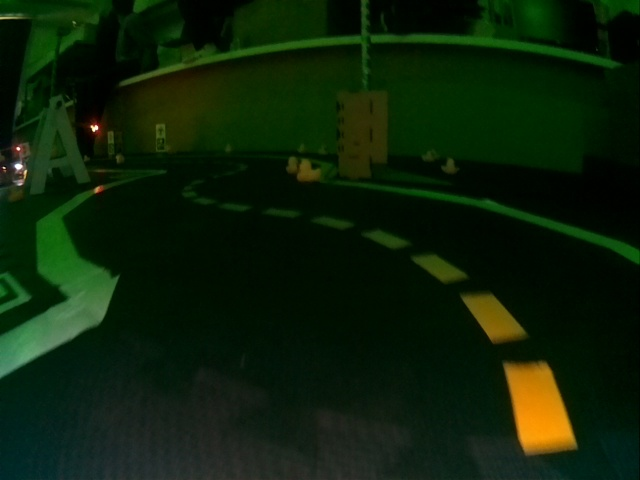Duckie: (298, 161, 320, 181), (442, 158, 456, 172), (286, 157, 298, 173), (422, 152, 432, 160), (297, 145, 306, 153), (225, 145, 234, 153)
Intersection sign: (156, 125, 165, 137)
QR code: (156, 139, 166, 151)
